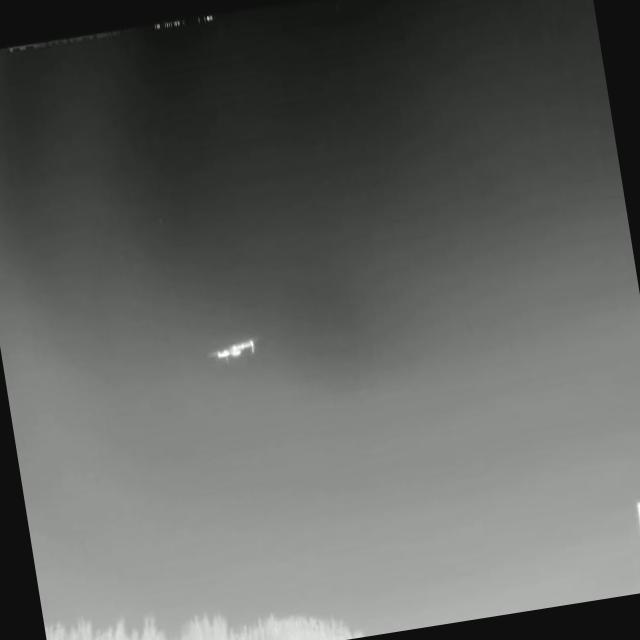DRONE: (198, 330, 264, 370)
